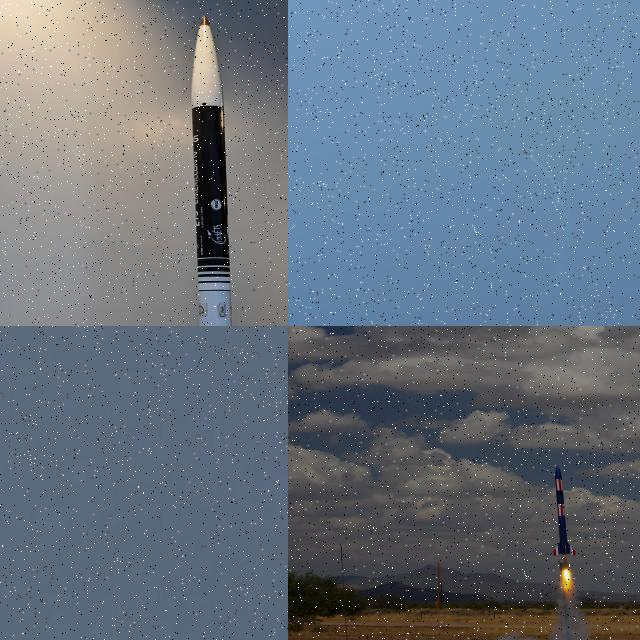Rocket: (191, 16, 232, 326), (553, 465, 576, 557), (522, 148, 528, 153)
